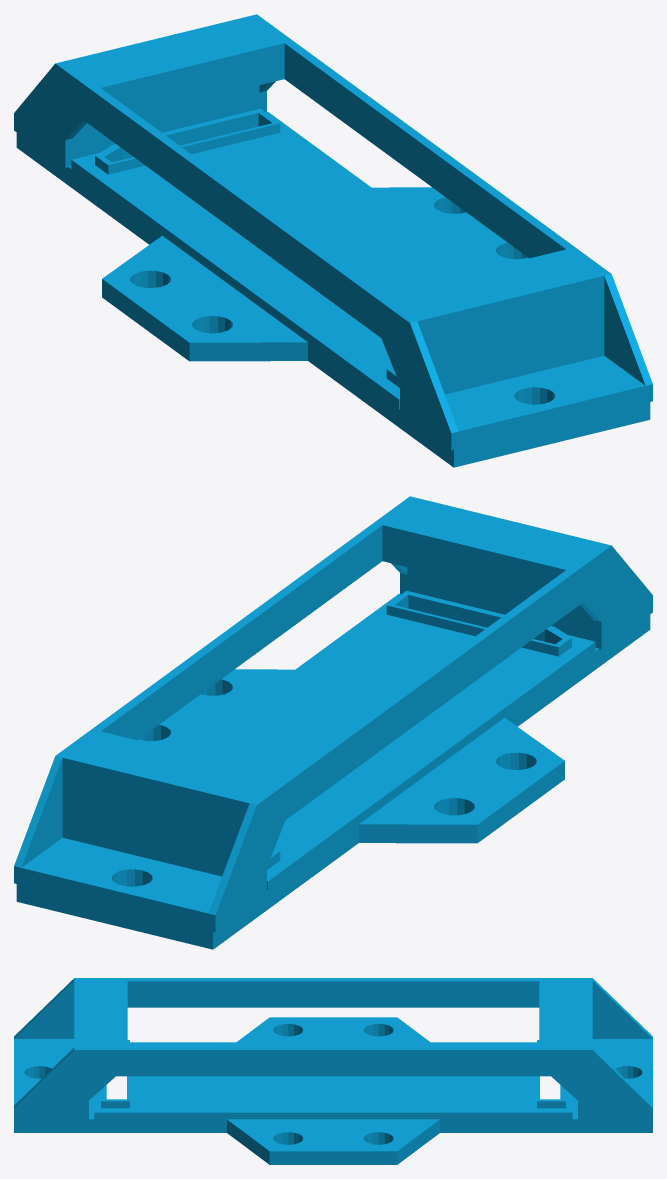
Rendered from camera_shield.glb.
The picture shows the model from 3 angles, top to bottom: view 1: azimuth 30°, elevation 25°; view 2: azimuth 150°, elevation 25°; view 3: azimuth 270°, elevation 25°; orthographic projection. The views are drawn at different scales.
Visible parts, largest first — view 1: 立方体.048, 立方体.052, 立方体.056, 立方体.051, 立方体.050, 立方体.055, 立方体.054, 立方体.049, 立方体.053; view 2: 立方体.048, 立方体.052, 立方体.056, 立方体.051, 立方体.050, 立方体.055, 立方体.054, 立方体.049, 立方体.053; view 3: 立方体.048, 立方体.050, 立方体.051, 立方体.052, 立方体.054, 立方体.056, 立方体.055, 立方体.049, 立方体.053.
Boxes of the visible parts, x1,y1,x2,y2 form: 立方体.048: (16, 112, 650, 467); 立方体.052: (55, 14, 611, 358); 立方体.056: (14, 101, 652, 450); 立方体.051: (91, 88, 381, 332); 立方体.050: (284, 41, 574, 258); 立方体.055: (55, 85, 604, 402); 立方体.054: (14, 64, 652, 433); 立方体.049: (95, 108, 399, 387); 立方体.053: (65, 81, 399, 384); 立方体.048: (16, 594, 650, 949); 立方体.052: (55, 496, 611, 840); 立方体.056: (14, 583, 652, 932); 立方体.051: (285, 570, 575, 814); 立方体.050: (92, 523, 382, 740); 立方体.055: (62, 567, 611, 884); 立方体.054: (14, 546, 652, 915); 立方体.049: (267, 590, 571, 869); 立方体.053: (267, 563, 601, 866); 立方体.048: (14, 1017, 652, 1164); 立方体.050: (127, 1046, 539, 1076); 立方体.051: (127, 978, 539, 1007); 立方体.052: (74, 978, 592, 1076); 立方体.054: (14, 978, 652, 1108); 立方体.056: (14, 1039, 652, 1120); 立方体.055: (74, 1076, 592, 1108); 立方体.049: (101, 1040, 565, 1108); 立方体.053: (89, 1076, 577, 1100).
Size of the model in its own units: 0.042 by 0.0123 by 0.0847.
